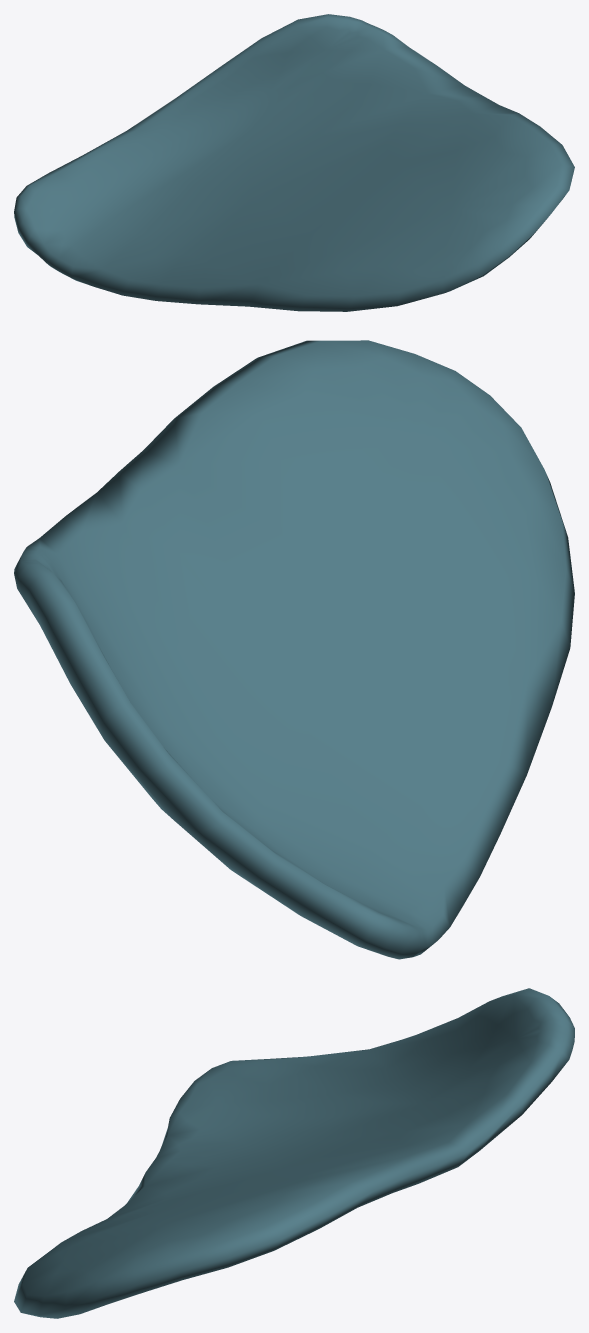
Rendered from Long_plantar_ligament_1st_metatarsal_base_right.glb.
3 views of the same model, one above another, from view 1: azimuth 30°, elevation 25°; view 2: azimuth 150°, elevation 25°; view 3: azimuth 330°, elevation 25° (orthographic). The views are drawn at different scales.
Parts seen in each view (by area): view 1: Long_plantar_ligament_on_1st_metatarsal_base.r_Generated_Mes; view 2: Long_plantar_ligament_on_1st_metatarsal_base.r_Generated_Mes; view 3: Long_plantar_ligament_on_1st_metatarsal_base.r_Generated_Mes.
Boxes of the visible parts, x1,y1,x2,y2 form: Long_plantar_ligament_on_1st_metatarsal_base.r_Generated_Mes: [14, 14, 574, 311]; Long_plantar_ligament_on_1st_metatarsal_base.r_Generated_Mes: [14, 340, 574, 959]; Long_plantar_ligament_on_1st_metatarsal_base.r_Generated_Mes: [14, 988, 574, 1318].
Bounding box in the file's own units: 0.00705 × 0.004 × 0.0107.
